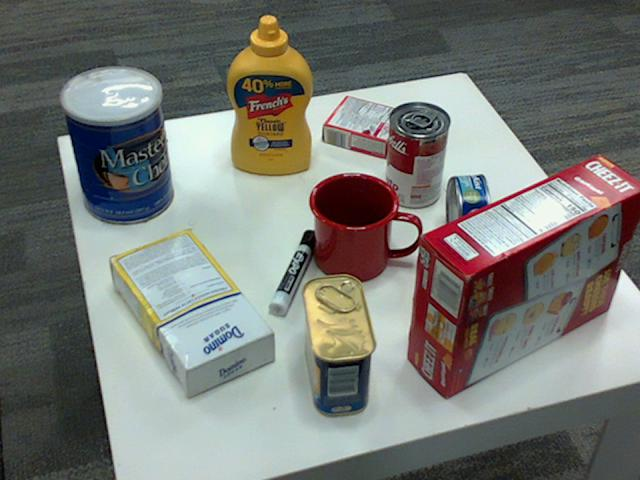cracker_box: (406, 153, 639, 396)
gelatin_box: (324, 95, 409, 156)
large_marker: (266, 231, 317, 320)
master_chef_can: (58, 67, 171, 225)
mug: (307, 170, 418, 279)
mustard_bottle: (226, 16, 311, 174)
potted_meat_can: (301, 275, 377, 415)
sugar_box: (106, 226, 272, 392)
tomato_soup_can: (383, 102, 449, 208)
tuna_fish_can: (444, 173, 490, 253)
